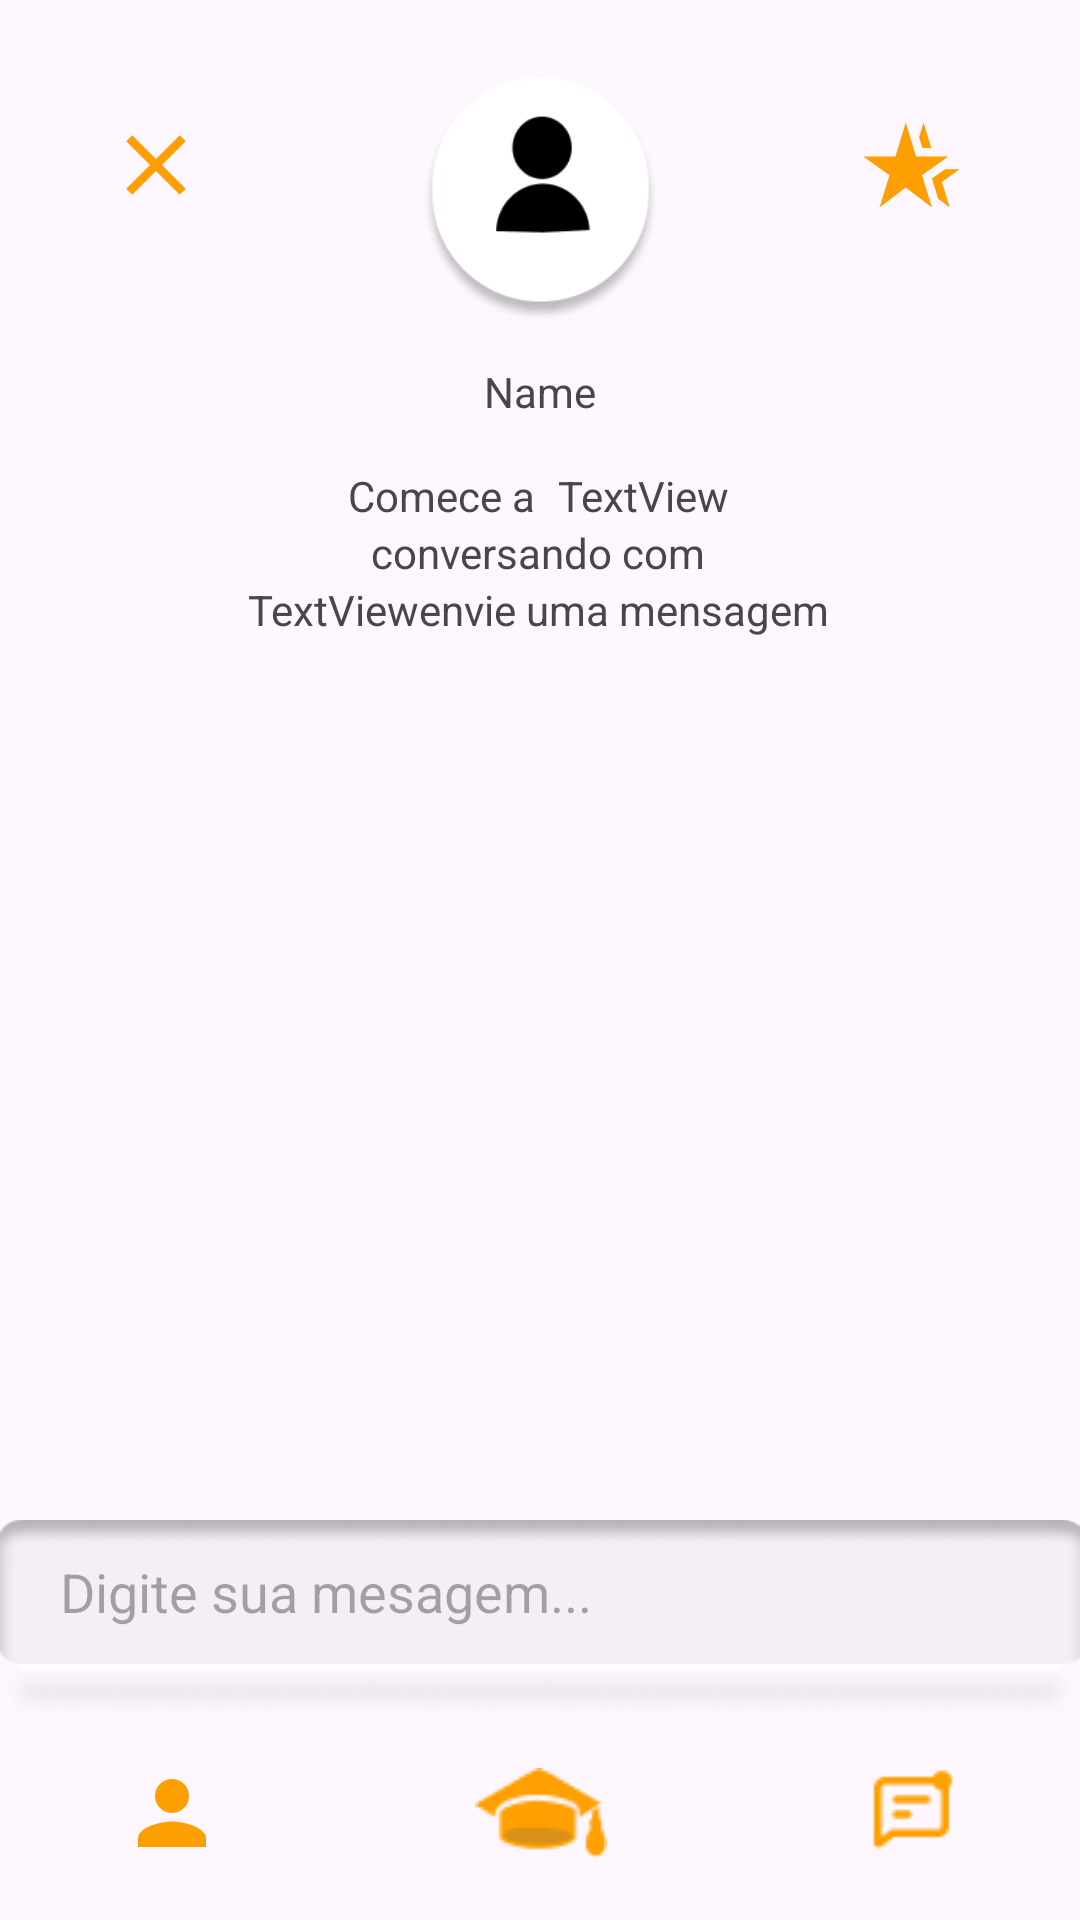

Locate icon controls on the screen. Image size 1080*1920, boxes as {"x1": x1, "y1": y1, "x2": x2, "y2": y2}.
close: {"x1": 126, "y1": 135, "x2": 186, "y2": 195}
hotel class: {"x1": 863, "y1": 123, "x2": 960, "y2": 208}
perfilphot: {"x1": 427, "y1": 78, "x2": 654, "y2": 317}
person: {"x1": 138, "y1": 1779, "x2": 206, "y2": 1847}
